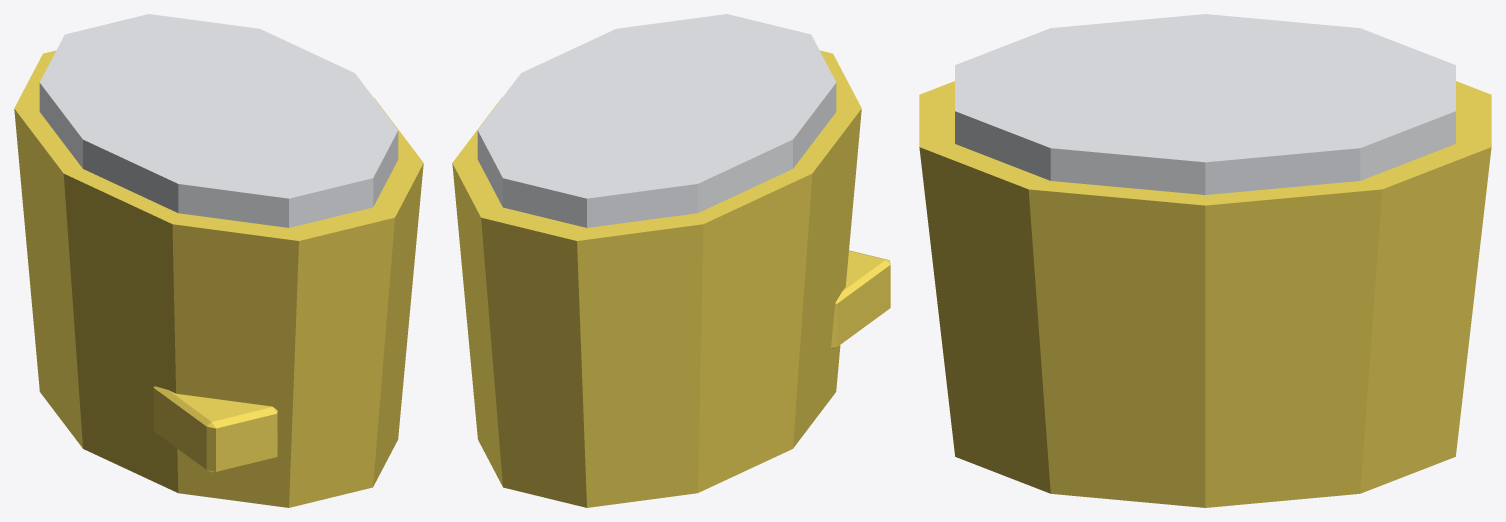
Rendered from b17_quad_roller_skate.glb.
3 views of the same model, side by side, from view 1: azimuth 30°, elevation 25°; view 2: azimuth 150°, elevation 25°; view 3: azimuth 270°, elevation 25° (orthographic). The views are drawn at different scales.
Parts seen in each view (by area): view 1: b17_quad_roller_skate; view 2: b17_quad_roller_skate; view 3: b17_quad_roller_skate.
Part boxes in pixels (x1,y1,x2,y2): b17_quad_roller_skate: (14, 14, 423, 507); b17_quad_roller_skate: (452, 14, 890, 507); b17_quad_roller_skate: (919, 14, 1491, 507).
Bounding box in the file's own units: 0.208 × 0.198 × 0.297.
